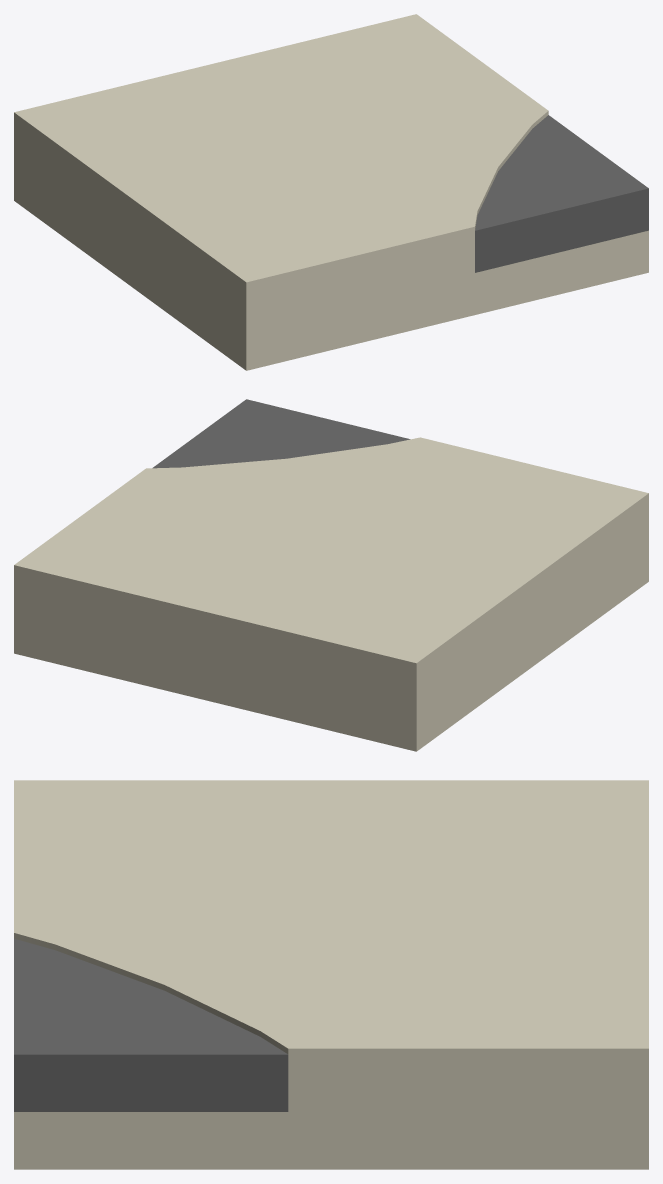
Rendered from tile208.fbx.
3 views of the same model, one above another, from view 1: azimuth 30°, elevation 25°; view 2: azimuth 150°, elevation 25°; view 3: azimuth 270°, elevation 25° (orthographic). The views are drawn at different scales.
Visible parts, largest first — view 1: tile208; view 2: tile208; view 3: tile208.
Boxes of the visible parts, x1,y1,x2,y2 form: tile208: (14,14,648,370); tile208: (14,399,648,751); tile208: (14,780,648,1169).
Size of the model in its own units: 10 by 2.1 by 10.
